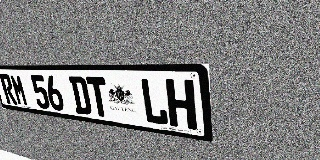5: (30, 75, 51, 110)
6: (43, 75, 65, 112)
D: (69, 76, 93, 115)
H: (165, 79, 197, 130)
L: (139, 78, 169, 126)
M: (9, 74, 29, 106)
R: (0, 74, 18, 105)
T: (86, 77, 111, 118)
